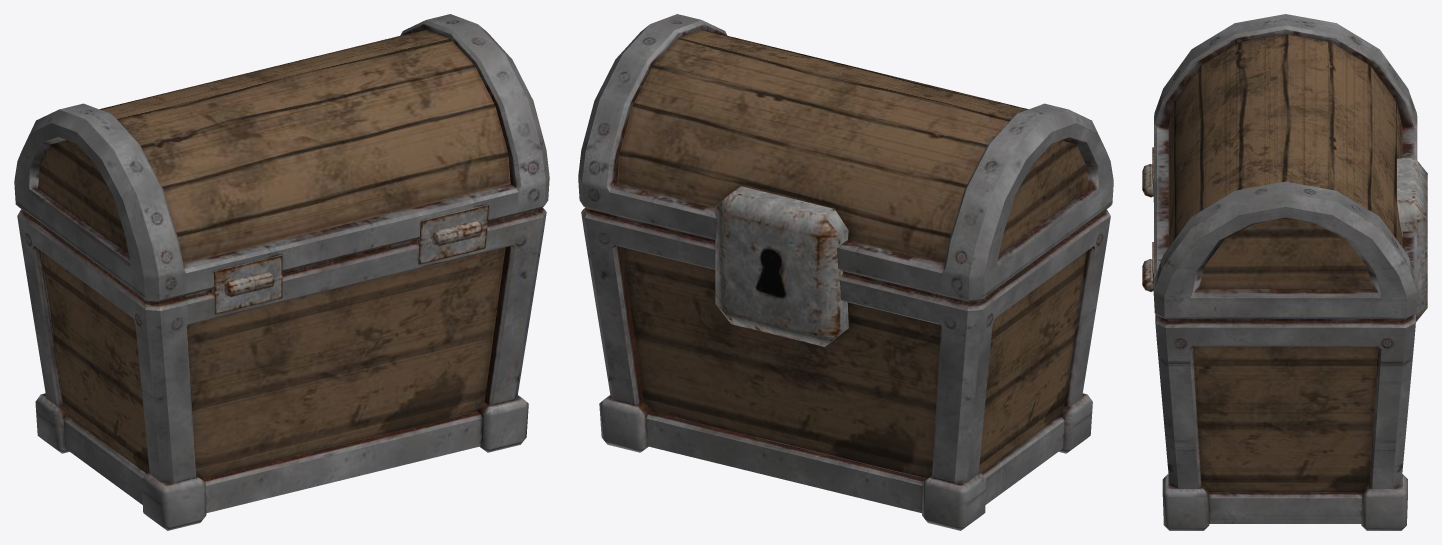
The model's file is sea_chest.glb.
The picture shows the model from 3 angles, left to right: view 1: azimuth 30°, elevation 25°; view 2: azimuth 150°, elevation 25°; view 3: azimuth 270°, elevation 25°; orthographic projection. The views are drawn at different scales.
Parts seen in each view (by area): view 1: polySurface3_lambert7_0, Top_lambert7_0, Bot_lambert7_0, Open_Stuff_lambert7_0, polySurface5_lambert7_0, polySurface1_lambert7_0, polySurface6_lambert7_0; view 2: polySurface3_lambert7_0, Top_lambert7_0, Bot_lambert7_0, Lock_lambert7_0, polySurface6_lambert7_0, polySurface4_lambert7_0, polySurface5_lambert7_0; view 3: polySurface3_lambert7_0, Top_lambert7_0, Bot_lambert7_0, Lock_lambert7_0, polySurface1_lambert7_0, polySurface4_lambert7_0, Open_Stuff_lambert7_0.
Part boxes in pixels (left/top/right/bottom): polySurface3_lambert7_0: left=14, top=14, right=549, bottom=513; Top_lambert7_0: left=38, top=29, right=510, bottom=263; Bot_lambert7_0: left=41, top=247, right=505, bottom=478; Open_Stuff_lambert7_0: left=212, top=204, right=488, bottom=314; polySurface5_lambert7_0: left=142, top=472, right=206, bottom=530; polySurface1_lambert7_0: left=477, top=395, right=528, bottom=452; polySurface6_lambert7_0: left=35, top=393, right=69, bottom=453; polySurface3_lambert7_0: left=578, top=14, right=1113, bottom=513; Top_lambert7_0: left=617, top=29, right=1088, bottom=263; Bot_lambert7_0: left=622, top=247, right=1086, bottom=478; Lock_lambert7_0: left=715, top=186, right=848, bottom=346; polySurface6_lambert7_0: left=922, top=472, right=986, bottom=530; polySurface4_lambert7_0: left=599, top=395, right=650, bottom=452; polySurface5_lambert7_0: left=1059, top=393, right=1092, bottom=453; polySurface3_lambert7_0: left=1154, top=14, right=1417, bottom=523; Top_lambert7_0: left=1168, top=34, right=1402, bottom=288; Bot_lambert7_0: left=1193, top=346, right=1378, bottom=492; Lock_lambert7_0: left=1397, top=158, right=1427, bottom=321; polySurface1_lambert7_0: left=1162, top=474, right=1209, bottom=530; polySurface4_lambert7_0: left=1361, top=474, right=1407, bottom=530; Open_Stuff_lambert7_0: left=1142, top=147, right=1154, bottom=300.
Bounding box in the file's own units: 2.24 × 1.93 × 1.44.
Materials: 1 (1 with a texture image).
